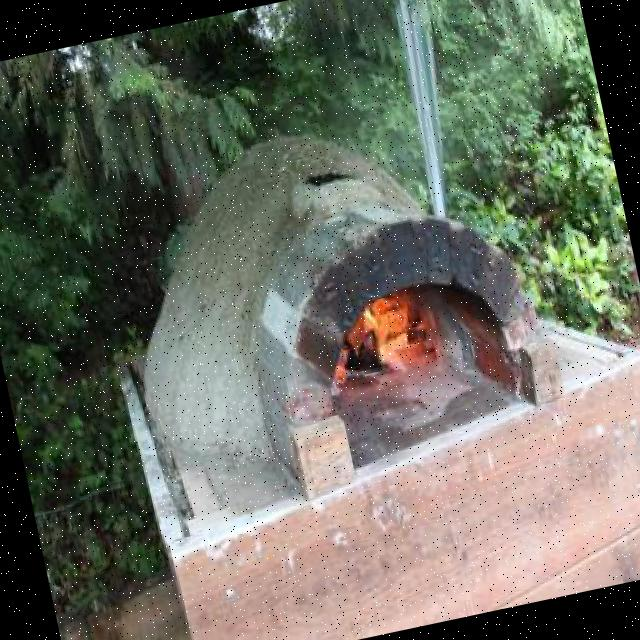fire: (356, 294, 408, 350)
